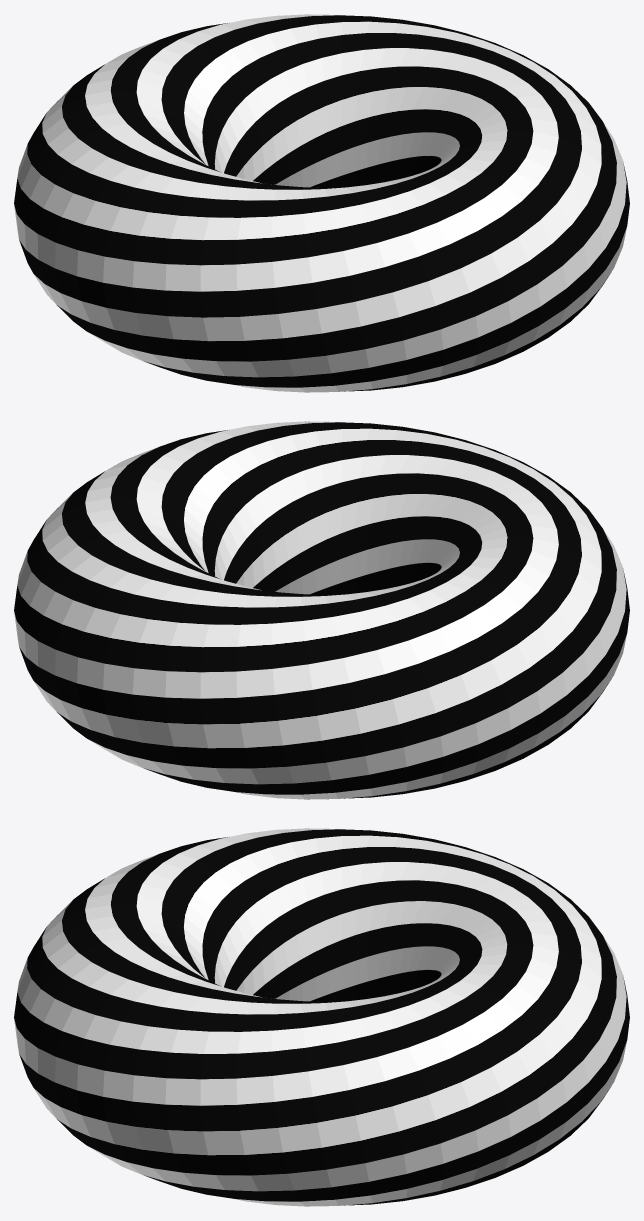
The picture shows the model from 3 angles, top to bottom: view 1: azimuth 30°, elevation 25°; view 2: azimuth 150°, elevation 25°; view 3: azimuth 270°, elevation 25°; orthographic projection.
Visible parts, largest first — view 1: Torus; view 2: Torus; view 3: Torus.
Boxes of the visible parts, x1=… form: Torus: x1=14, y1=14, x2=629, y2=392; Torus: x1=14, y1=421, x2=629, y2=799; Torus: x1=14, y1=828, x2=629, y2=1206.
Size of the model in its own units: 9 by 3 by 9.
1 material, 1 textured.
